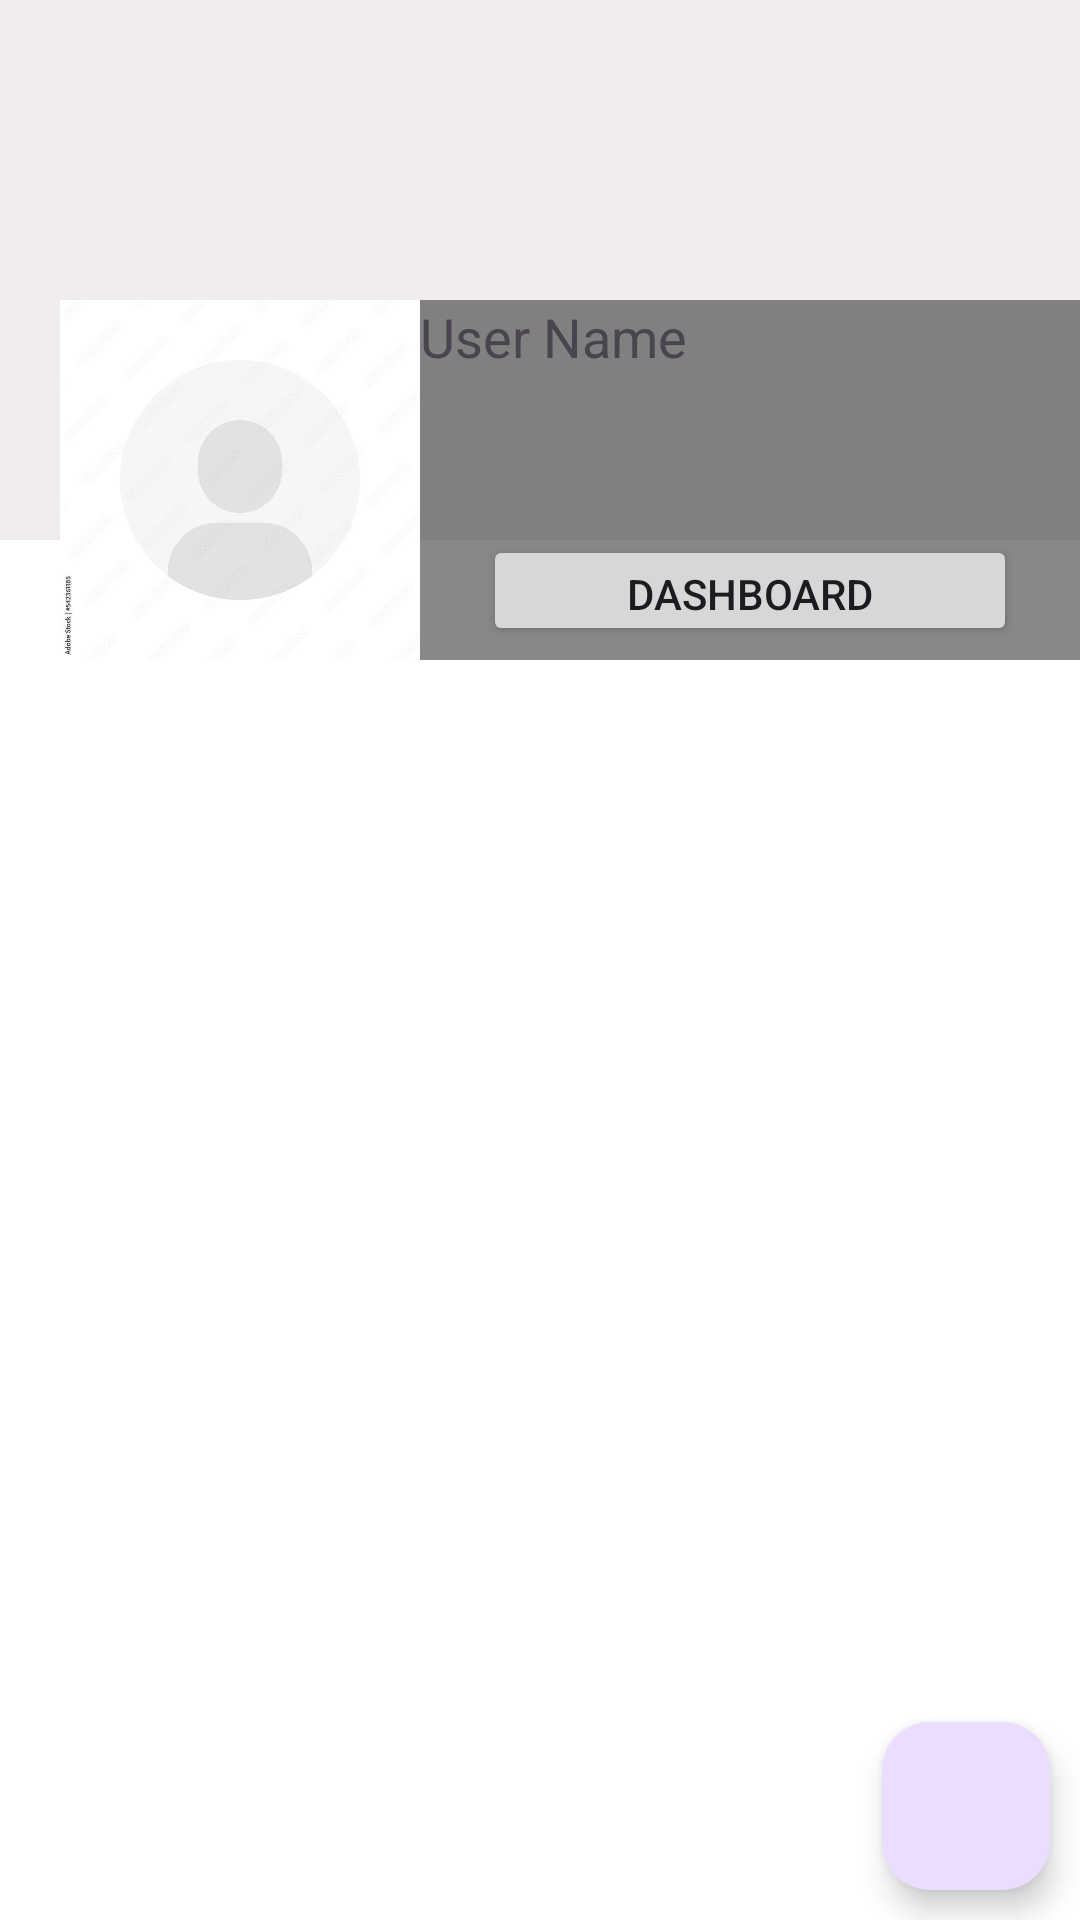

Screen size 1080×1920. Icon name, then its center in pixels as (x=x, y=y):
profile: (x=188, y=537)
